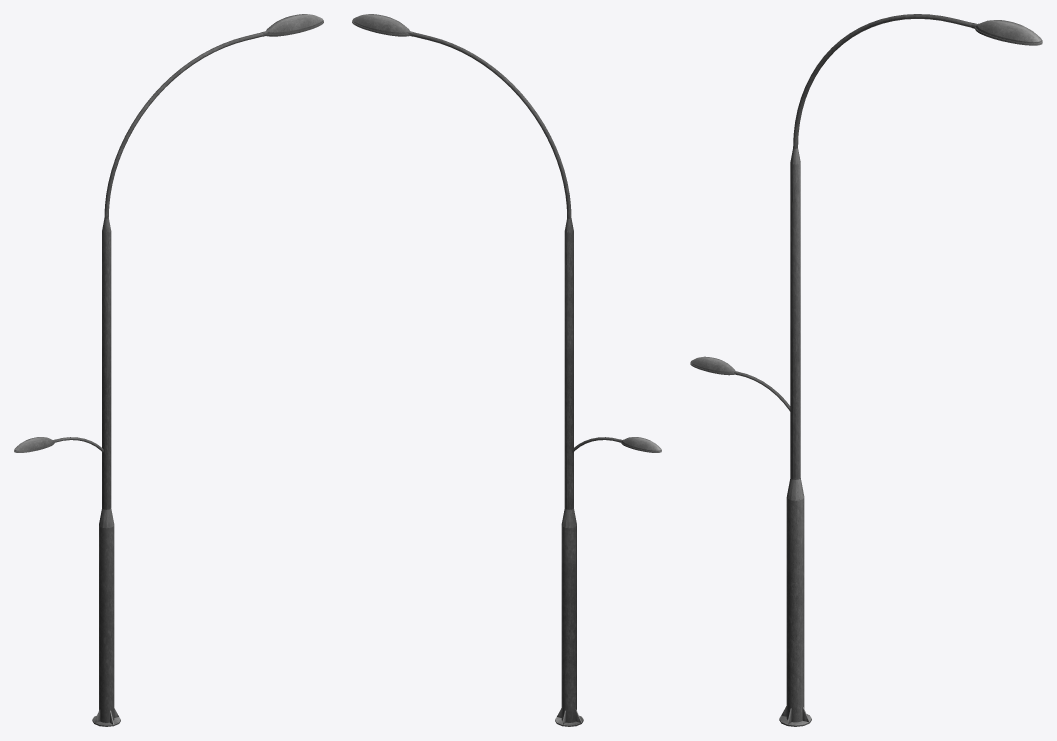
3 views of the same model, side by side, from view 1: azimuth 30°, elevation 25°; view 2: azimuth 150°, elevation 25°; view 3: azimuth 330°, elevation 25° (orthographic). The views are drawn at different scales.
Visible parts, largest first — view 1: MainBuilding; view 2: MainBuilding; view 3: MainBuilding.
Boxes of the visible parts, <box> form: MainBuilding: <box>14,14,323,726</box>; MainBuilding: <box>352,14,661,726</box>; MainBuilding: <box>690,14,1042,726</box>.
Size of the model in its own units: 4.36 by 8.87 by 0.3517.
Materials: 1 (1 with a texture image).
